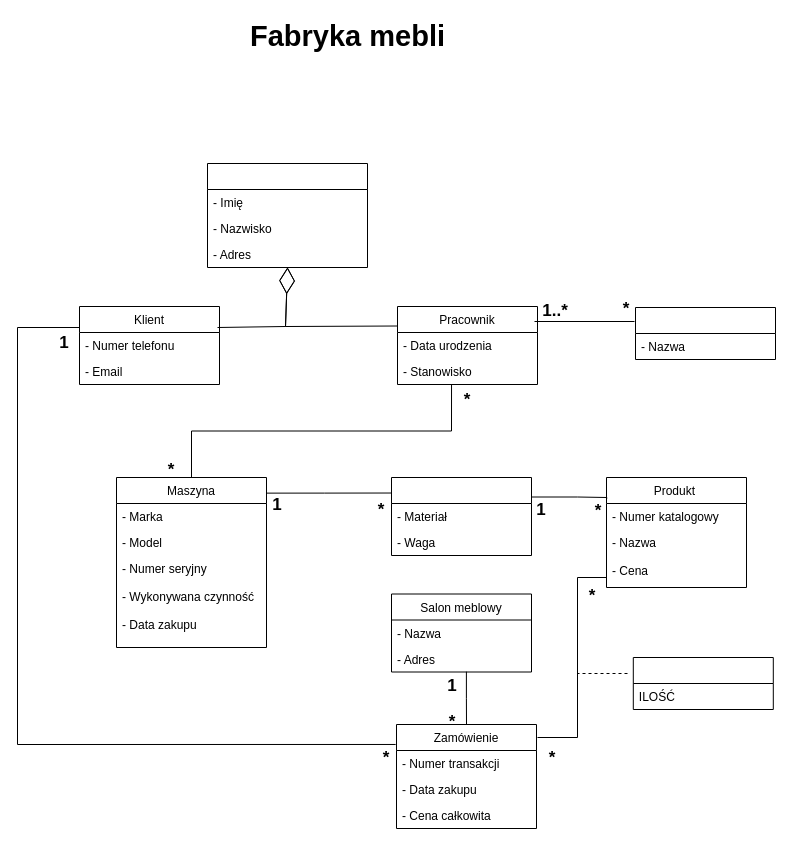
The diagram is 793 pixels wide and 848 high, and some of its shapes have lost their labels. The box of each missing label's shape, as (x1, y1, x2, y2) in pixels:
Element produktu: (390, 476, 532, 556)
Osoba: (206, 162, 368, 268)
Umiejętności: (634, 306, 776, 360)
